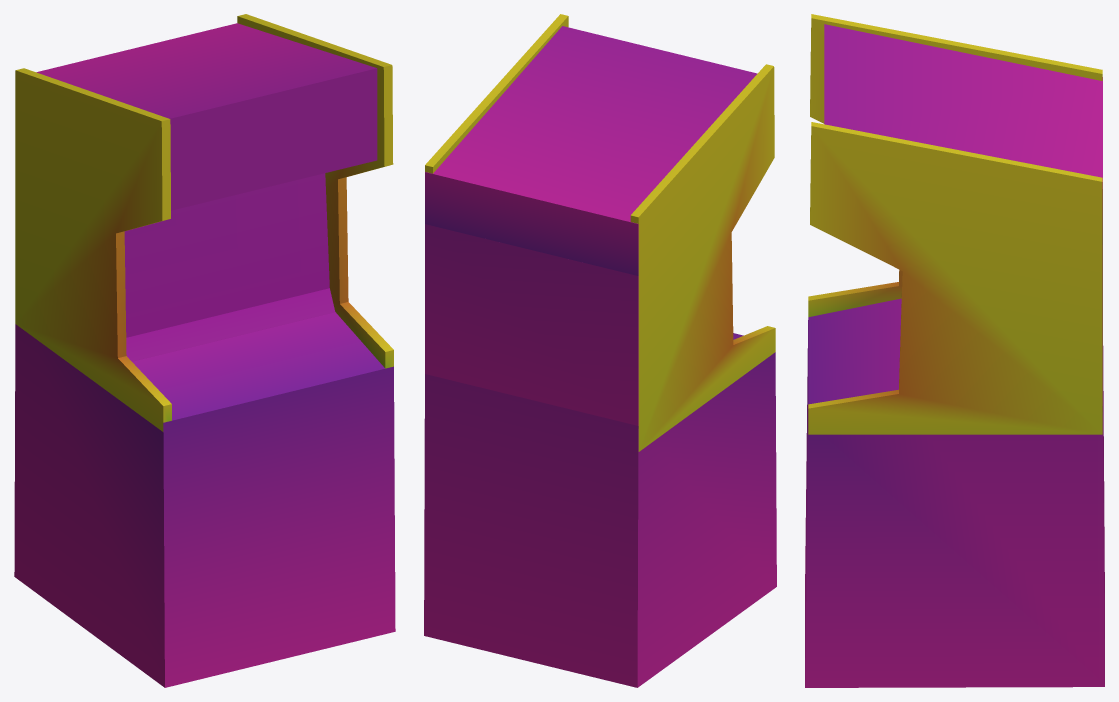
3 views of the same model, side by side, from view 1: azimuth 30°, elevation 25°; view 2: azimuth 150°, elevation 25°; view 3: azimuth 270°, elevation 25° (orthographic). The views are drawn at different scales.
Parts seen in each view (by area): view 1: lower, side_edging, canopy, back, side_edging.001; view 2: lower, canopy, back, side_edging, side_edging.001; view 3: lower, side_edging.001, canopy, side_edging.
Part boxes in pixels (x1,y1,x2,y2): lower: [14, 312, 395, 687]; side_edging: [15, 68, 171, 431]; canopy: [36, 23, 377, 210]; back: [124, 173, 335, 361]; side_edging.001: [237, 14, 393, 368]; lower: [424, 333, 776, 687]; canopy: [425, 26, 757, 275]; back: [425, 224, 638, 425]; side_edging: [630, 64, 775, 451]; side_edging.001: [425, 14, 568, 173]; lower: [805, 298, 1104, 687]; side_edging.001: [808, 122, 1102, 434]; canopy: [824, 24, 1102, 244]; side_edging: [808, 14, 1102, 317].
Size of the model in its own units: 0.7699 by 1.8 by 0.8701.
